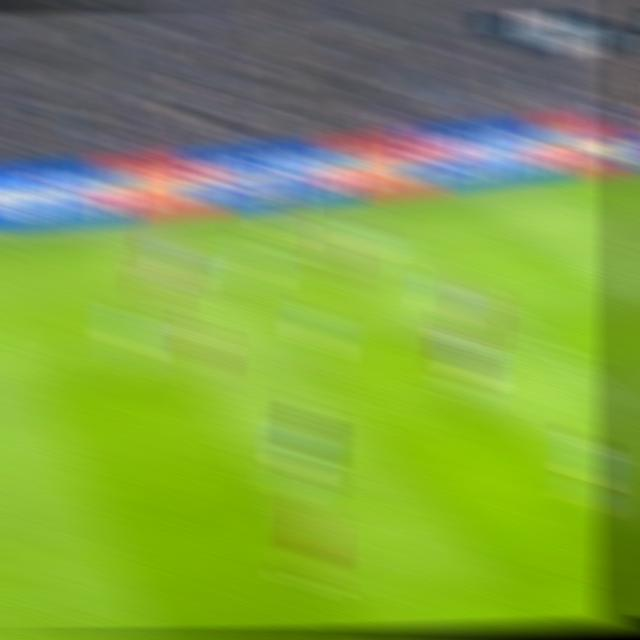bigarea_top_inner: (438, 259, 474, 286)
top_arc_area_intersection: (541, 336, 582, 369)
